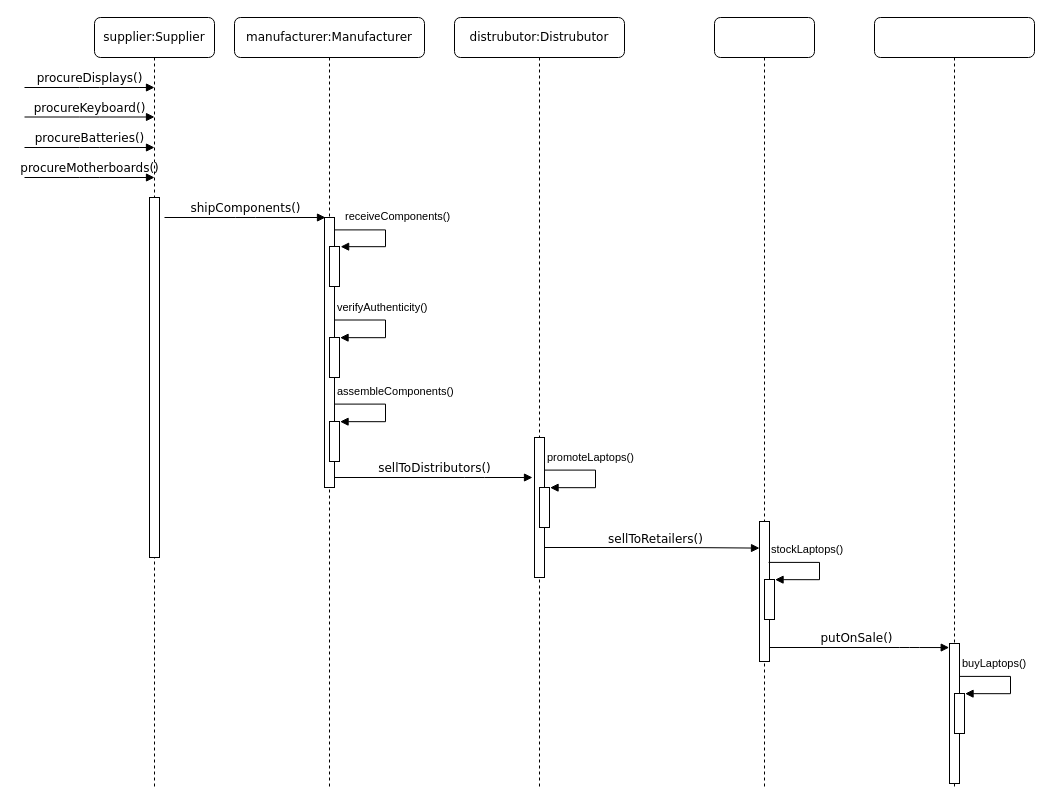
This 1052x805 diagram has some shape labels left out. The box of each missing label's shape, as (x1, y1, x2, y2) in pixels:
consumer:Consumer: (874, 16, 1034, 788)
retailer :Retailer: (714, 16, 814, 788)
